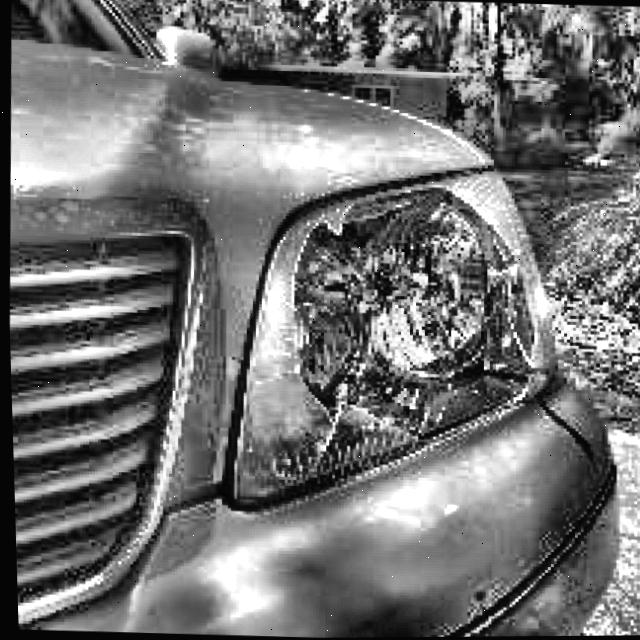head_lamp: (297, 177, 509, 436)
